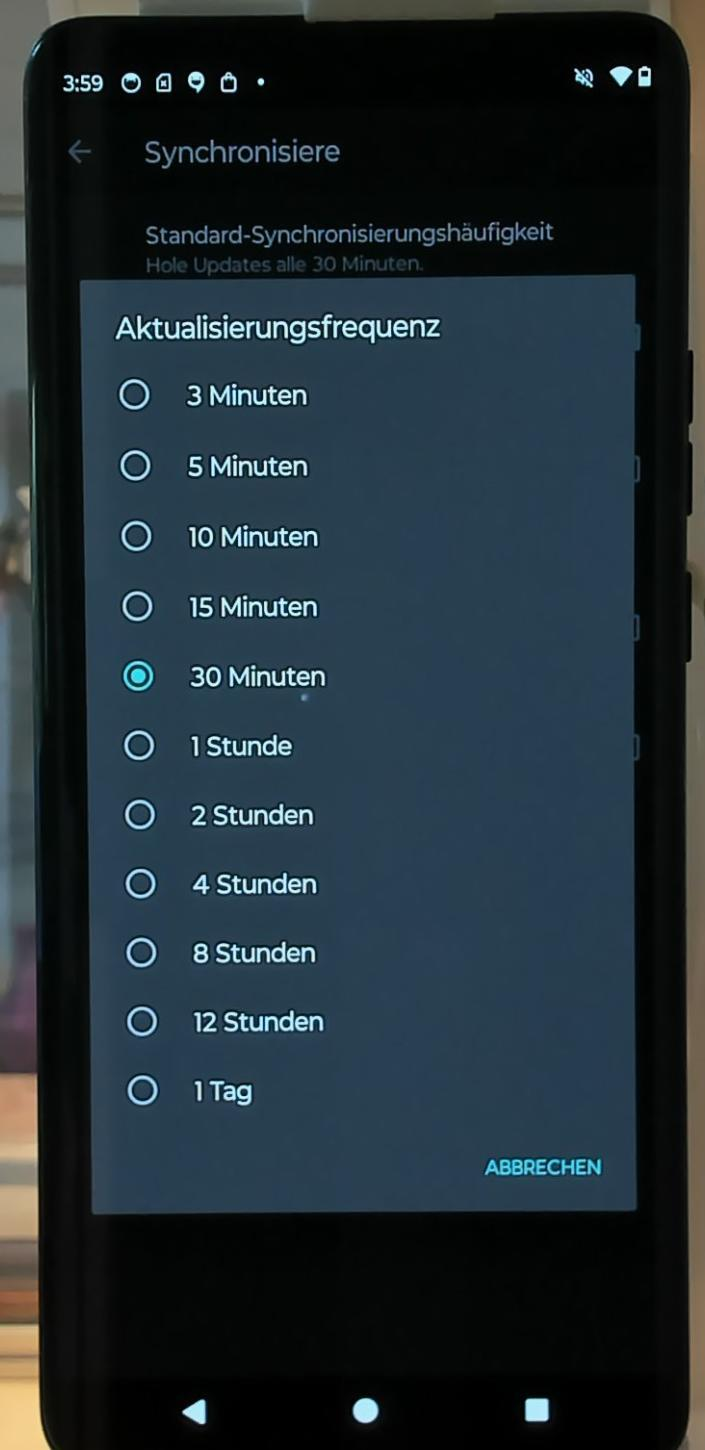CommunBotton: (174, 1390, 213, 1434), (348, 1389, 385, 1430), (518, 1388, 553, 1428)
RadioButton: (113, 440, 321, 492), (115, 368, 318, 419), (119, 584, 323, 634), (114, 654, 334, 698), (113, 514, 332, 558), (119, 998, 332, 1043), (119, 931, 321, 976), (122, 793, 326, 837), (122, 861, 330, 902), (119, 723, 300, 770), (123, 1069, 259, 1112)
